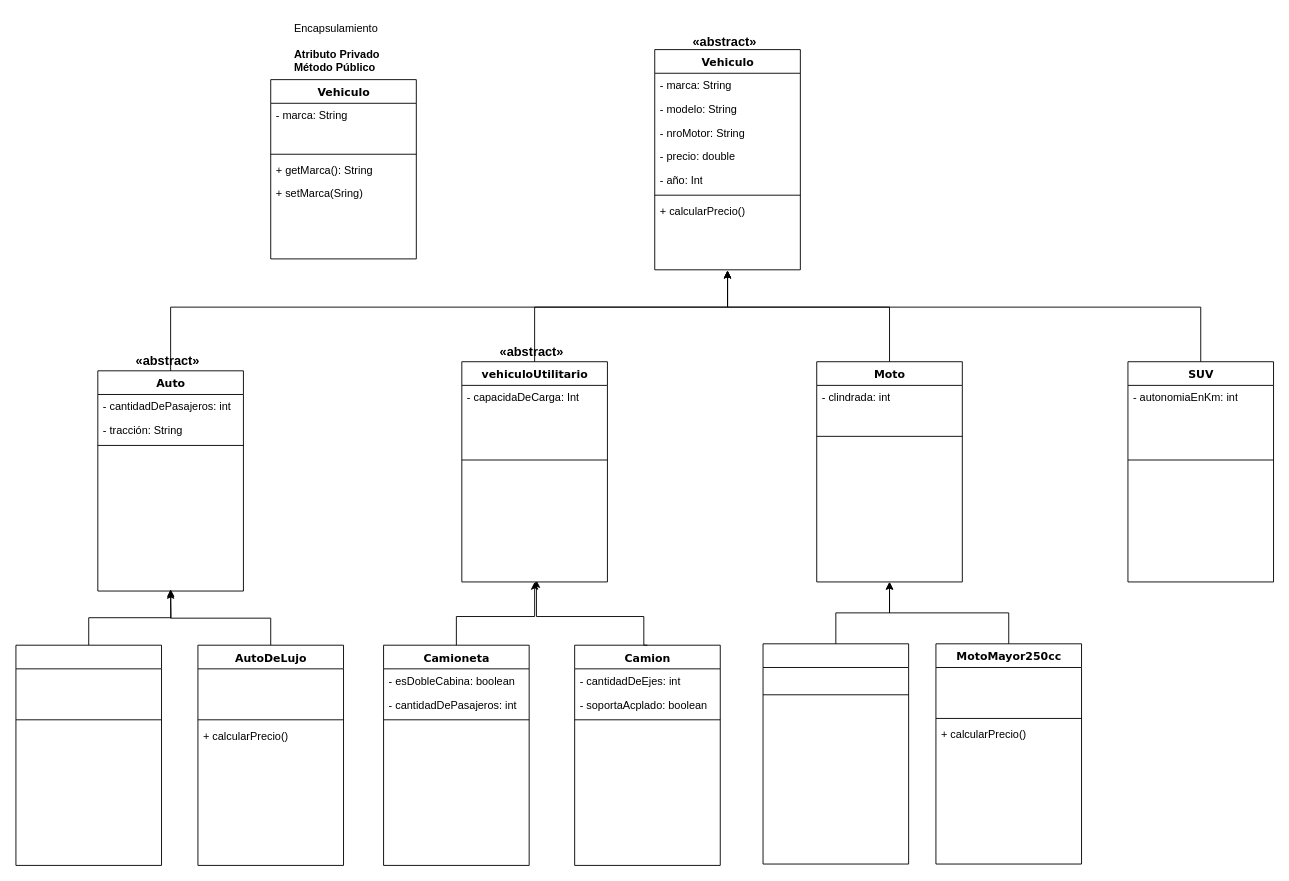
Some shapes in this 1289 by 881 pixel diagram are drawn without their labels. Here are the shapes that lost their labels. From the top down, the centre of each, then its label:
At (88,754): "AutoCompacto".
At (835,753): "MotoHasta250cc".
